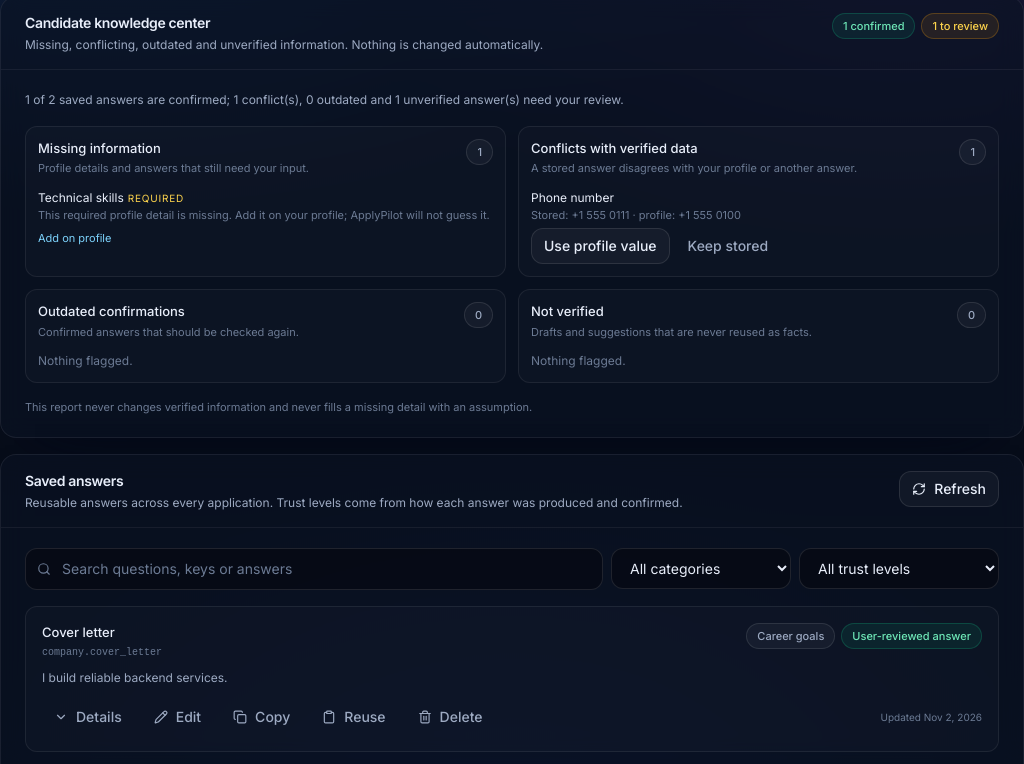
AnswerLibrary › reuses a saved answer into an application question as an unconfirmed draft
Step 1. Click the button "Reuse" → coordinates (354, 717), box top-left (310, 699), bottom-right (398, 735)
(page scrolled)
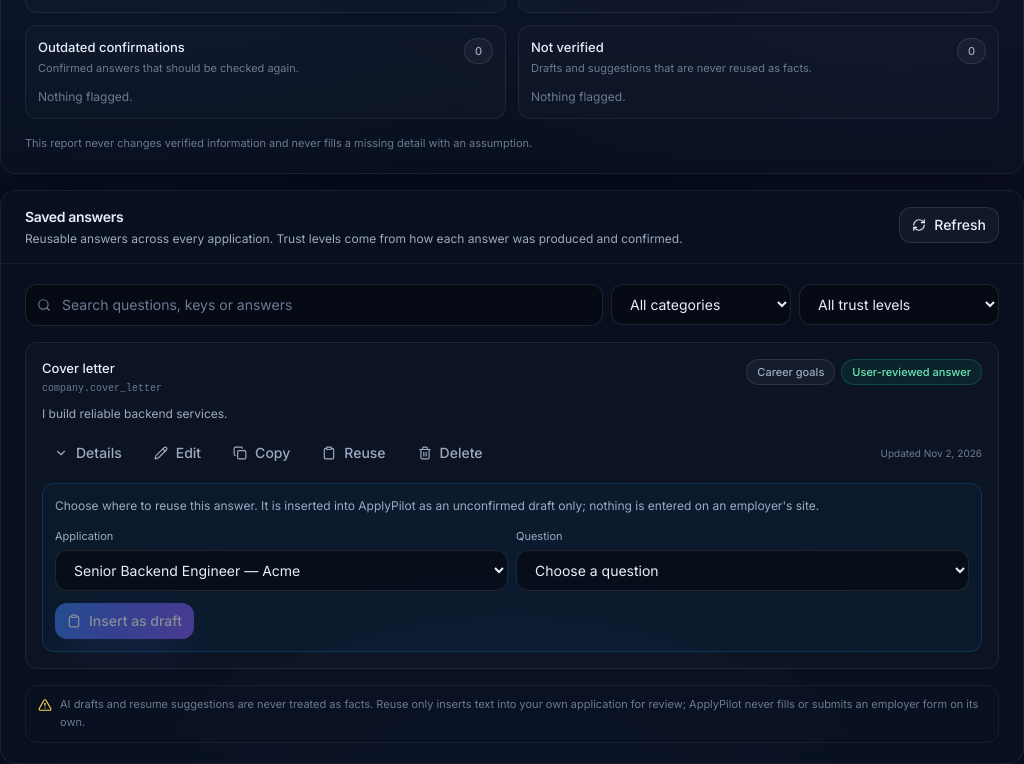
expect the text "inserted into ApplyPilot" is shown: met, box top-left (55, 498), bottom-right (819, 513)
Step 2. Select "Why do you want to work here?" in the dropdown labelled "Question" → coordinates (742, 571), box top-left (516, 550), bottom-right (969, 591)
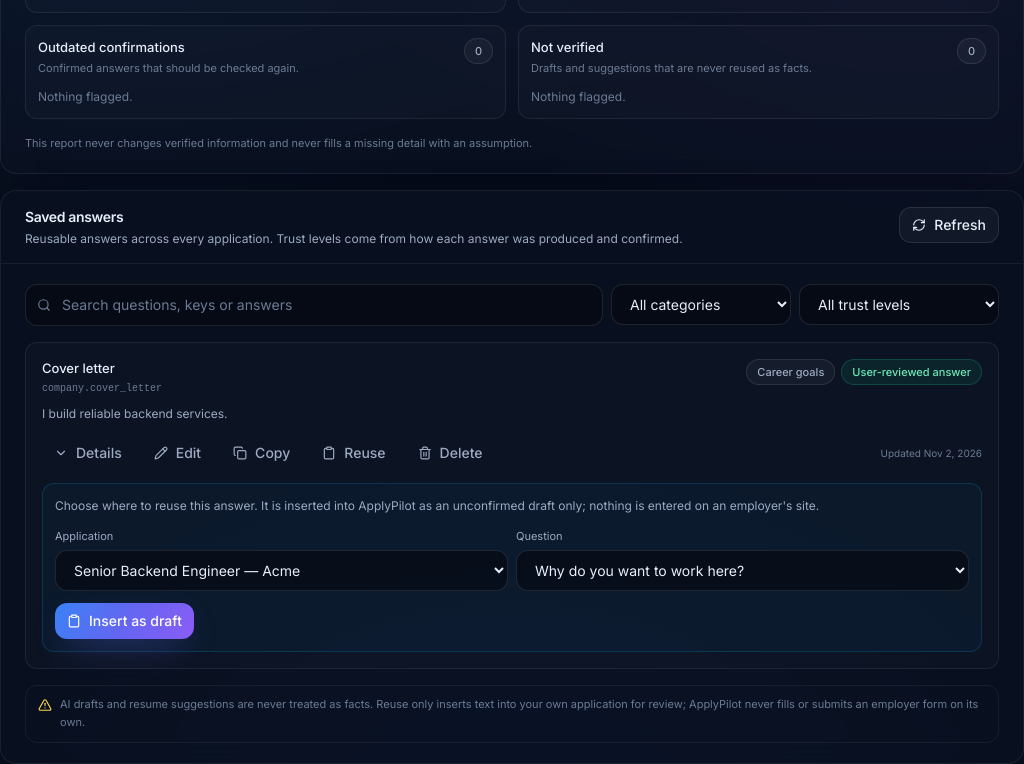
Step 3. Click the button "Insert as draft" → coordinates (124, 621), box top-left (55, 603), bottom-right (194, 639)
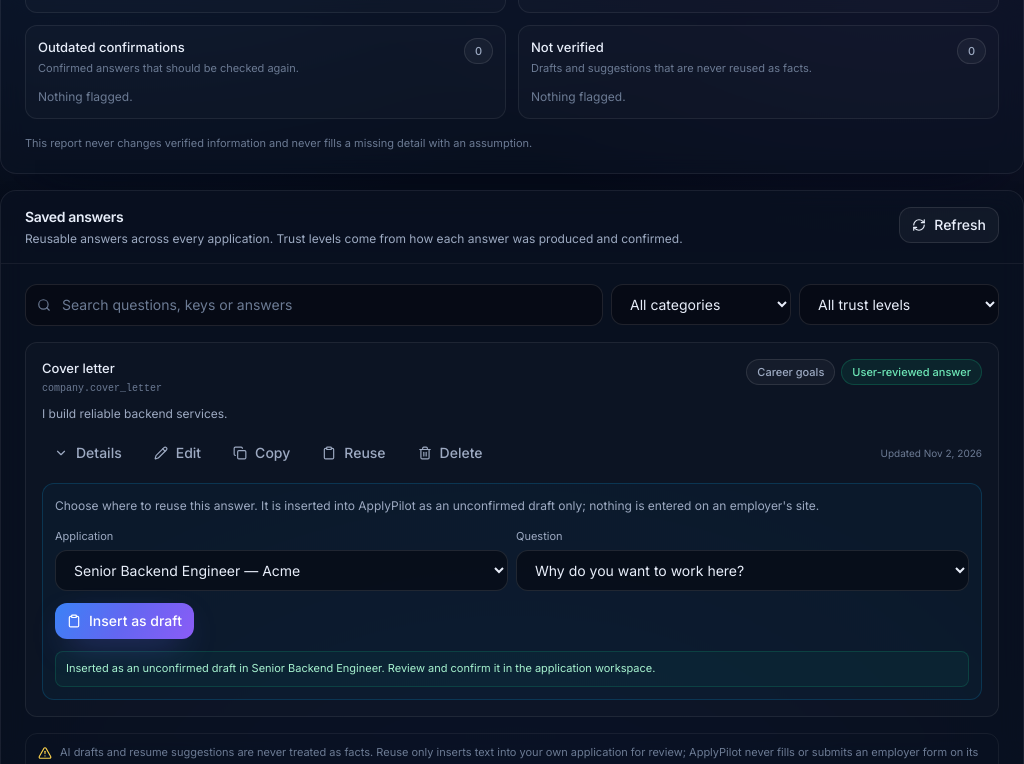
expect the text "Inserted as an unconfirmed draft" is shown: met, box top-left (66, 661), bottom-right (655, 675)
